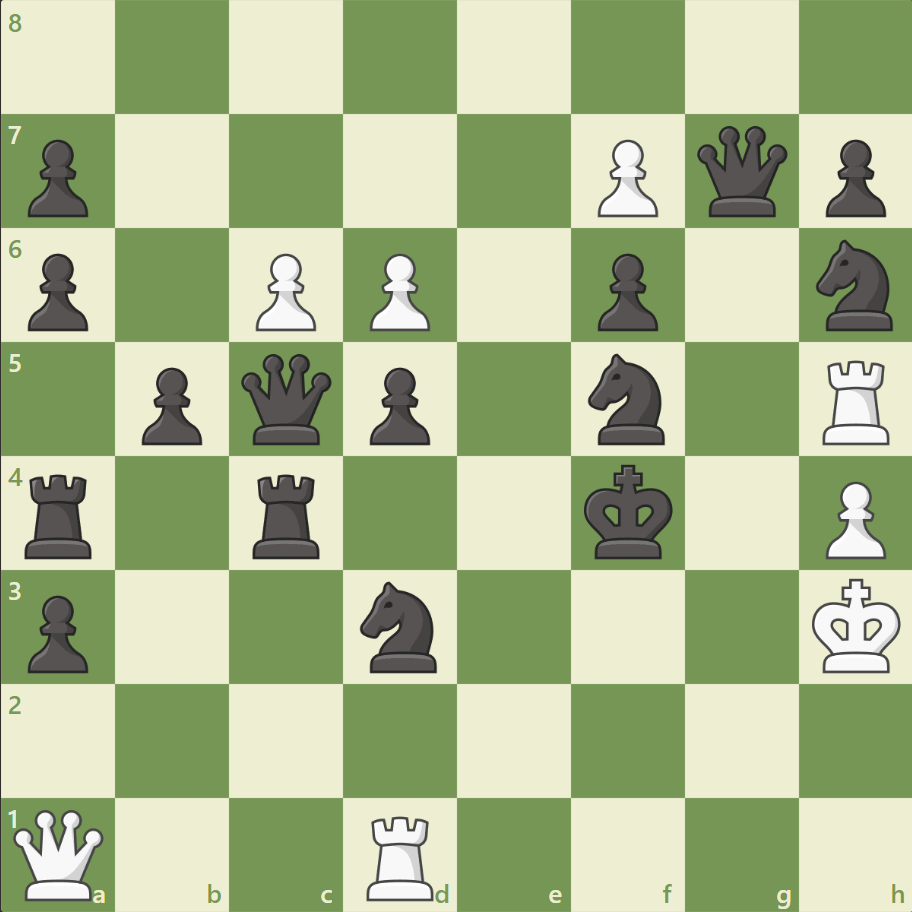K: (806, 571, 906, 679)
P: (247, 246, 322, 337), (588, 132, 662, 223), (361, 246, 435, 337), (815, 473, 889, 564)
Q: (10, 804, 109, 903)
R: (814, 352, 897, 449), (360, 806, 442, 904)
k: (579, 458, 679, 566)
n: (351, 575, 449, 677), (806, 234, 903, 337), (579, 348, 676, 450)
p: (20, 132, 95, 223), (20, 246, 95, 337), (133, 359, 208, 450), (20, 586, 95, 677), (815, 132, 889, 223), (588, 246, 662, 337), (361, 359, 435, 450)
q: (691, 122, 790, 222), (237, 349, 336, 449)
r: (19, 466, 102, 563), (246, 466, 329, 563)
